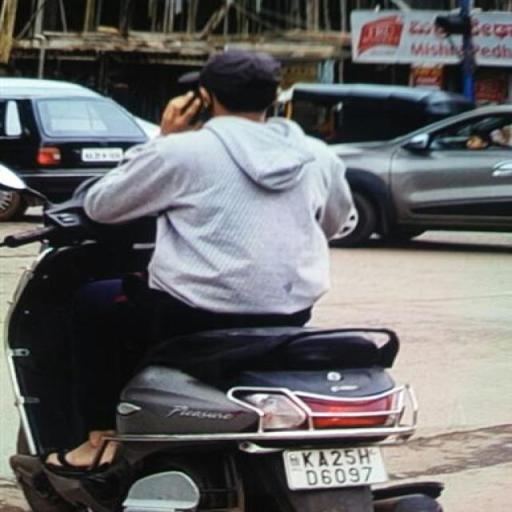numberplate: (281, 438, 393, 490)
using mobile: (166, 78, 224, 132)
